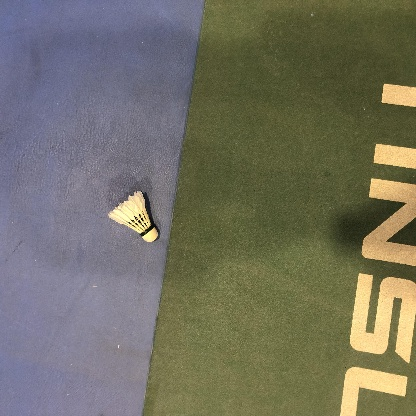ball_single: (108, 191, 158, 242)
